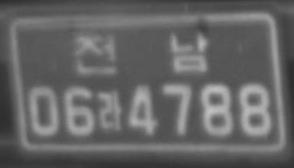0: (27, 84, 60, 137)
4: (127, 83, 159, 136)
6: (62, 84, 96, 139)
7: (161, 82, 193, 136)
8: (238, 81, 273, 139), (199, 82, 234, 138)
라: (96, 89, 124, 132)
전남_D: (72, 29, 209, 76)
